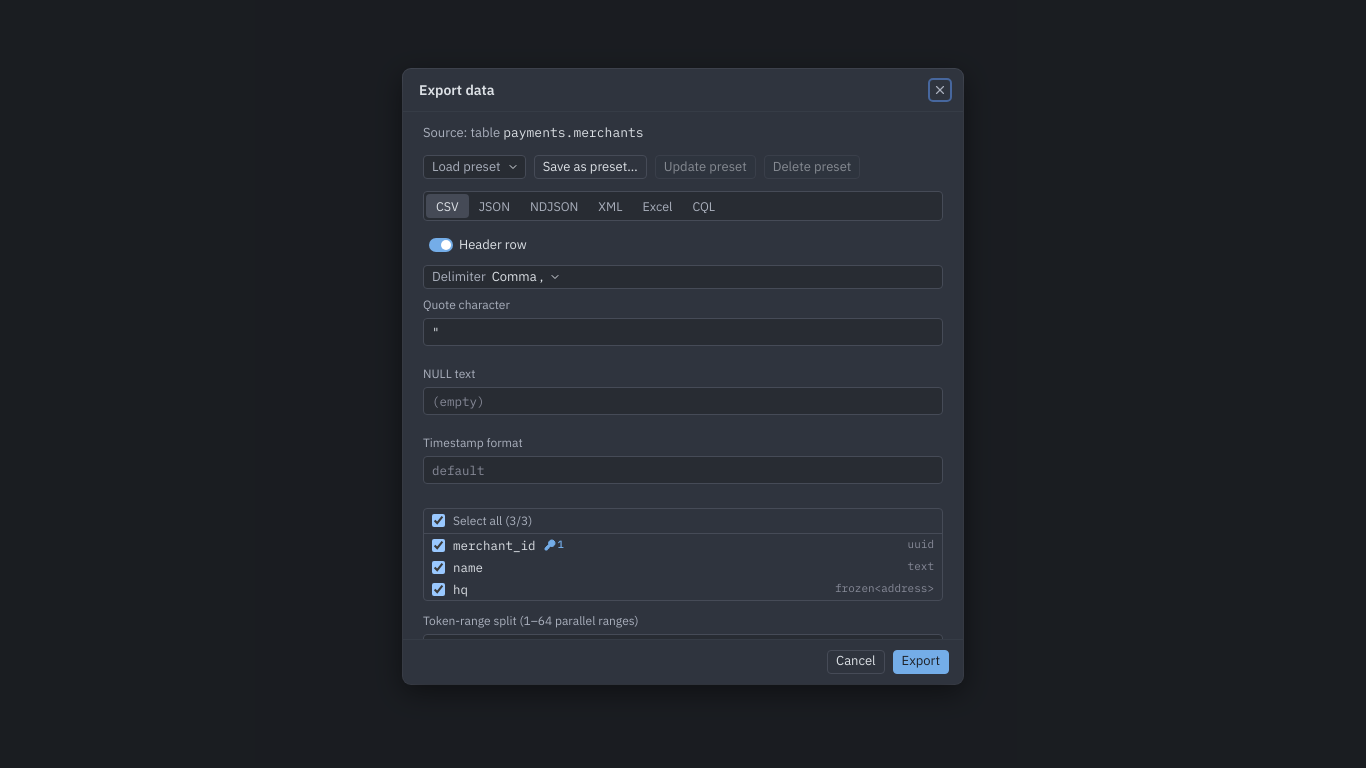
Test: ExportDialog › shows a failure such as the Excel row limit
The width and height of the screenshot is (1366, 768).
expect the checkbox labelled "merchant_id 1 uuid" is shown: met, box [432, 538, 445, 552]
Click the radio button labelled "Excel".
click(657, 206)  # box [632, 194, 682, 218]
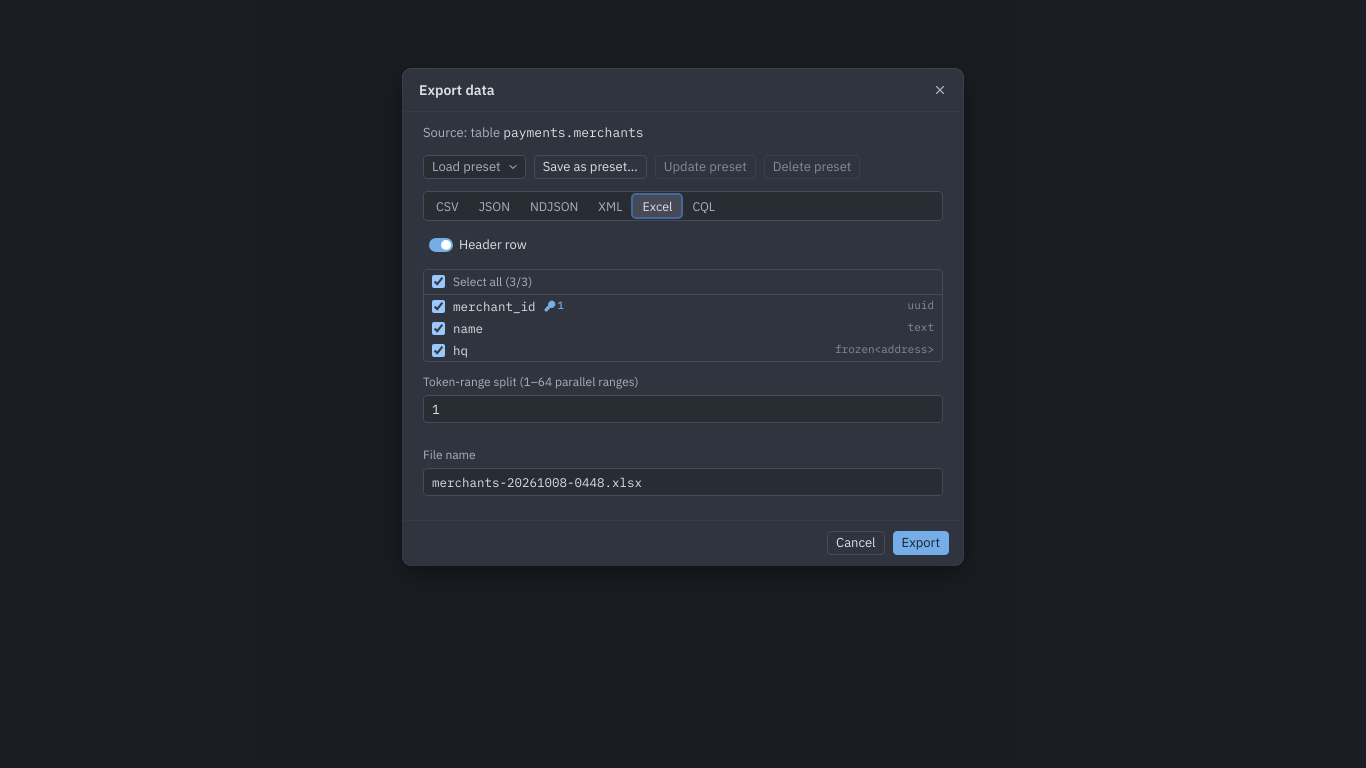
Click the button "Export".
click(921, 543)  # box [893, 531, 949, 555]
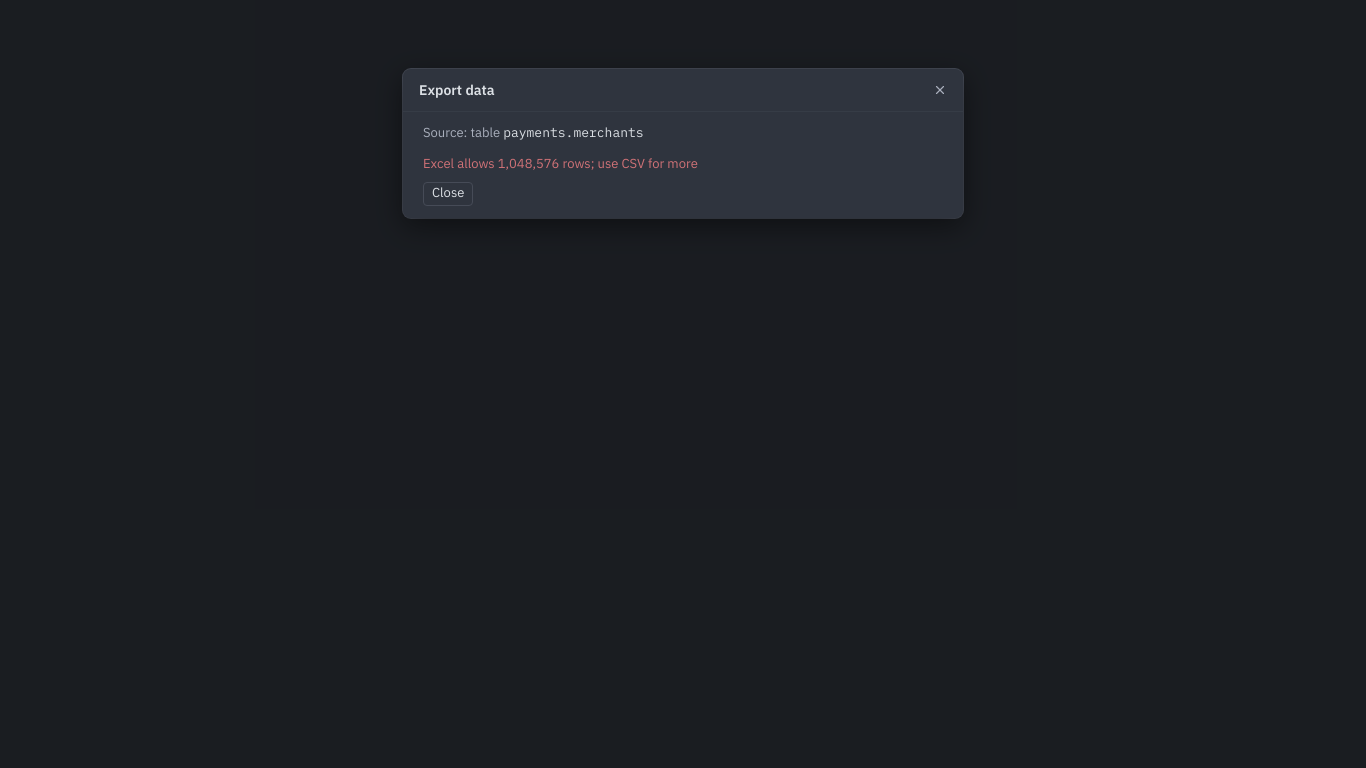
expect the message reads "Excel allows 1,048,576 rows; use CSV for more": met, box [423, 155, 698, 172]
